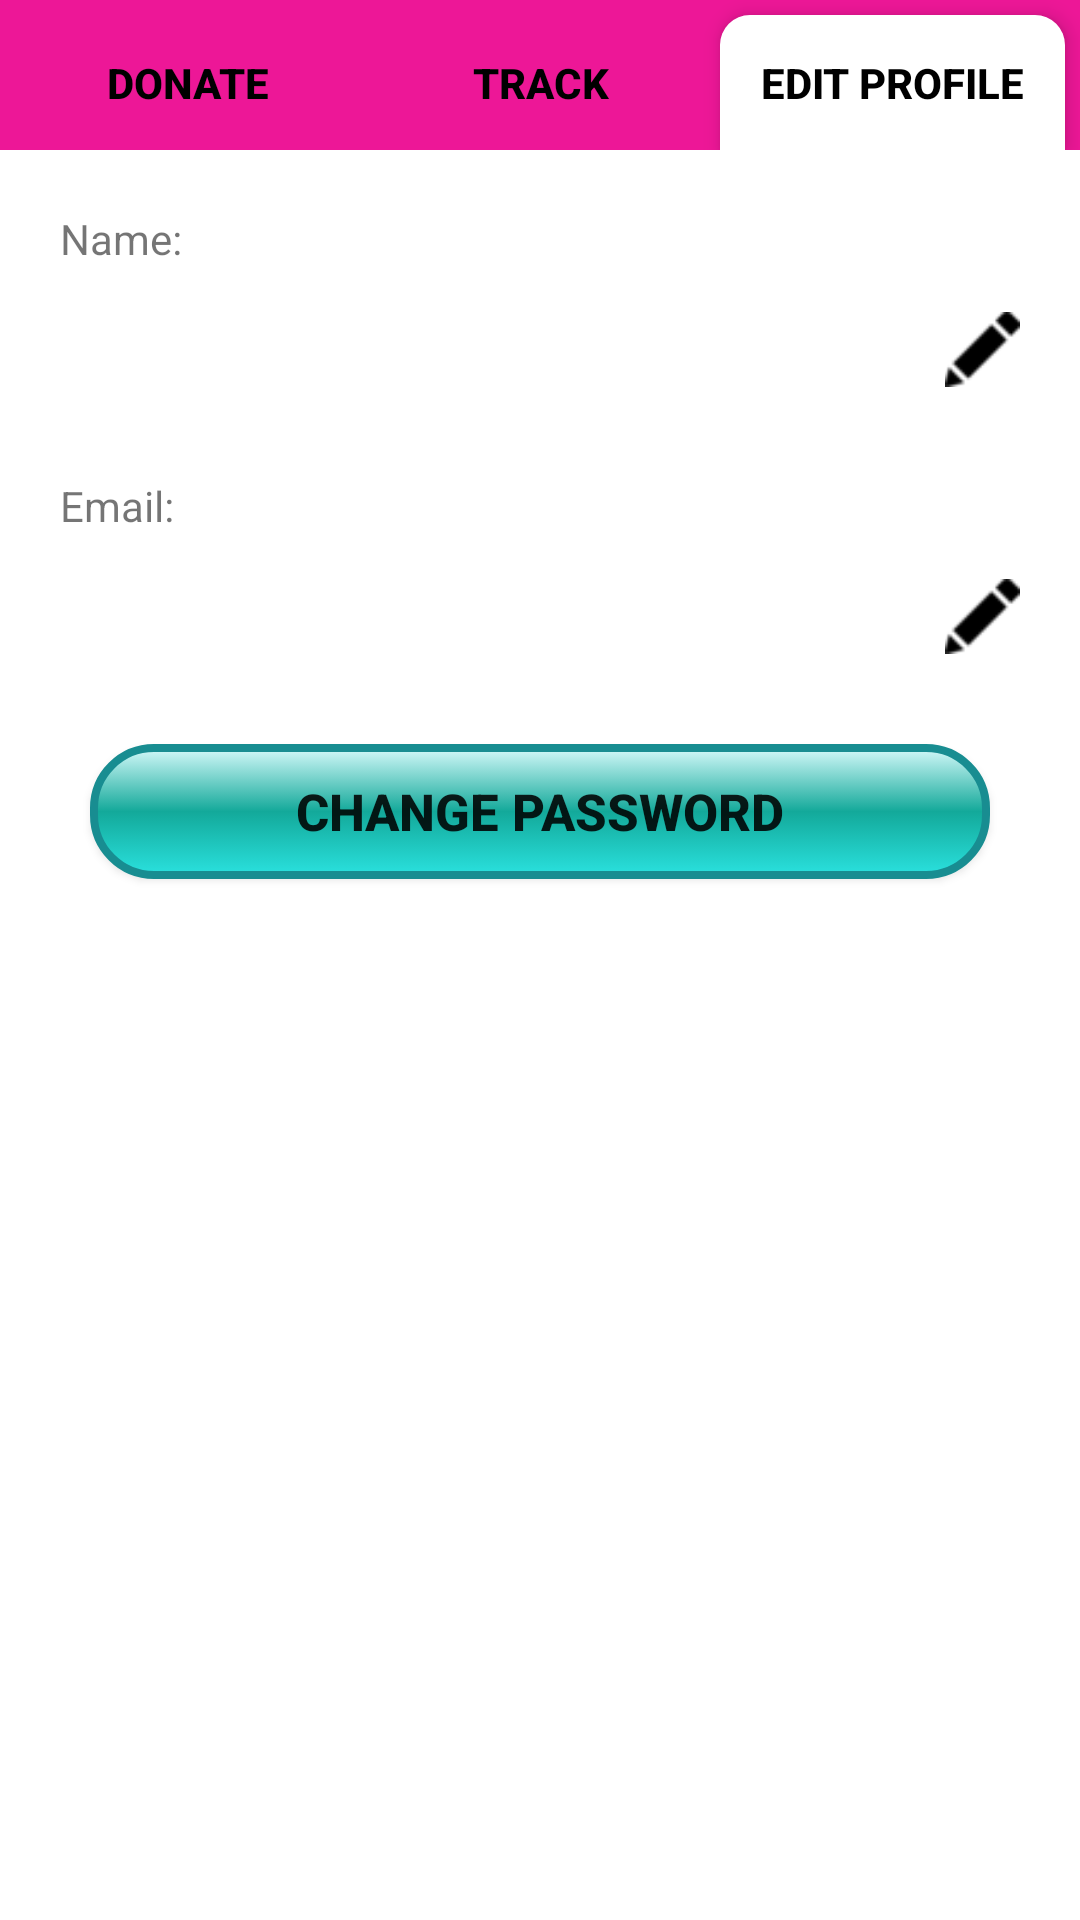

Locate icon controls on the screen. Image size 1080 x 1920, boxes as [left=x1, top=y1, right=x2, bottom=y2].
smalledit: [left=945, top=312, right=1020, bottom=387], [left=945, top=579, right=1020, bottom=654]
